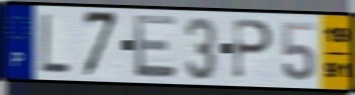3: (183, 14, 218, 82)
5: (281, 20, 316, 83)
7: (80, 9, 120, 80)
E: (132, 12, 179, 80)
L: (39, 11, 71, 76)
P: (231, 17, 275, 82)
